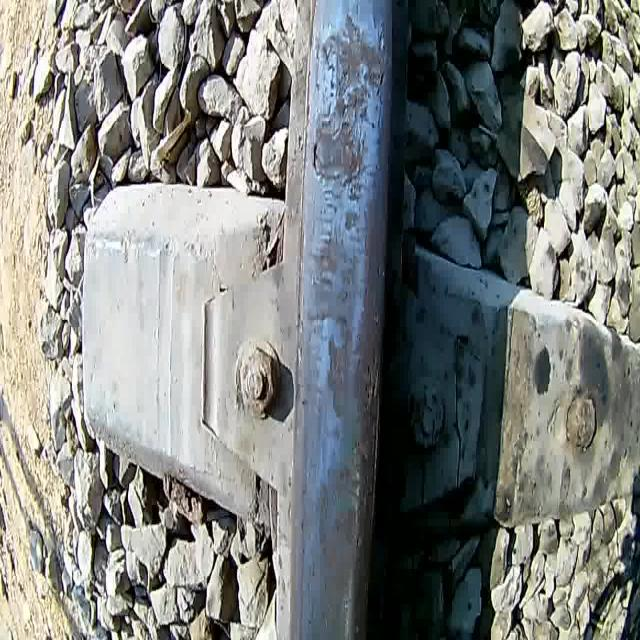Cracks: (320, 37, 353, 102), (372, 59, 389, 104), (309, 135, 320, 173)
Spallings: (360, 348, 380, 416)
Squats: (303, 5, 391, 204), (309, 447, 372, 636), (308, 229, 361, 329), (325, 315, 355, 425), (340, 202, 362, 238)
